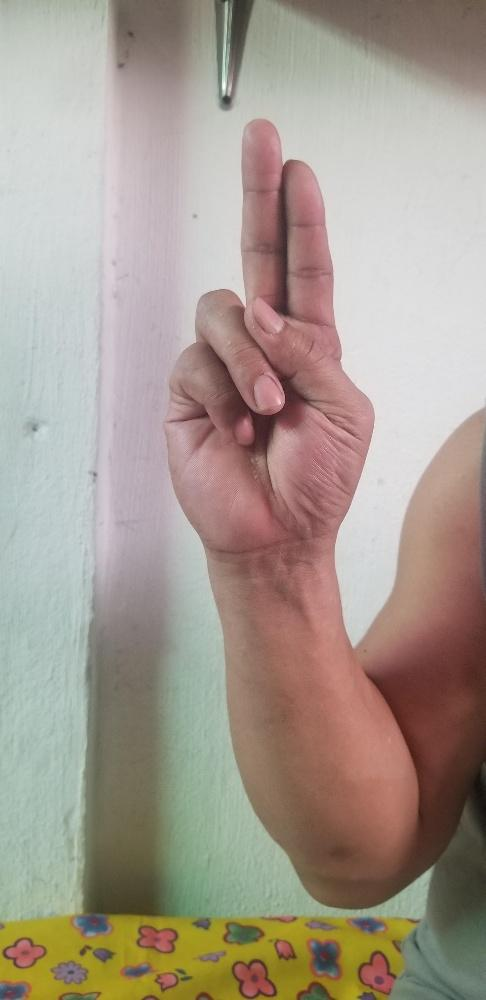u: (163, 116, 376, 549)
